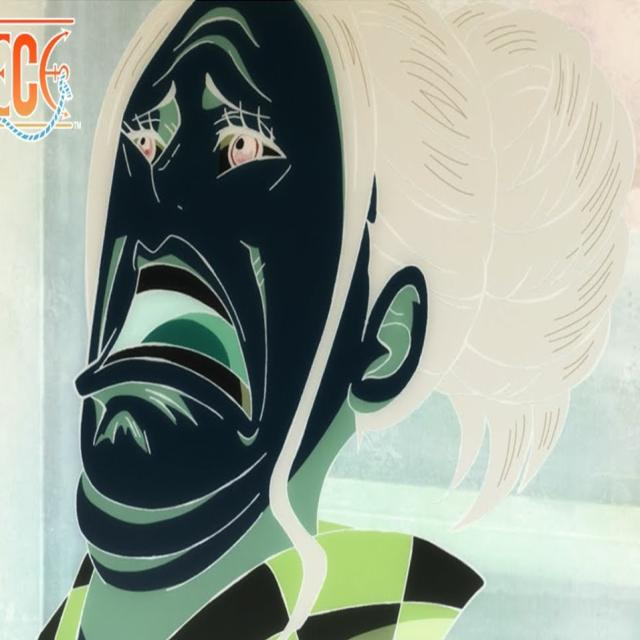Robin: (36, 0, 635, 640)
